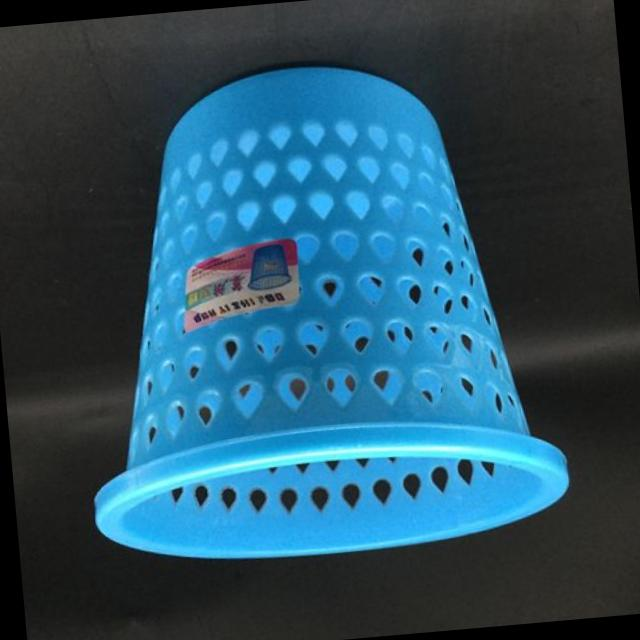dustbin: (53, 36, 583, 582)
